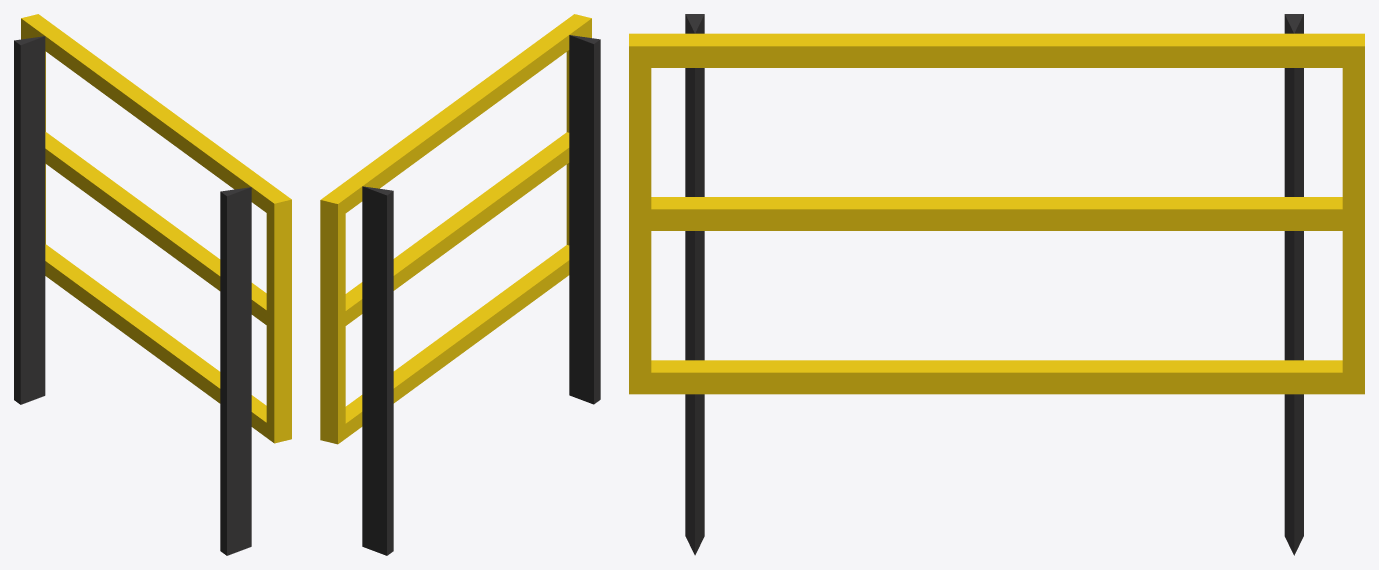
File: Barrier_3.fbx
3 renders of one model, left to right at view 1: azimuth 30°, elevation 25°; view 2: azimuth 150°, elevation 25°; view 3: azimuth 270°, elevation 25°, orthographic. The views are drawn at different scales.
Parts seen in each view (by area): view 1: Barrier_3; view 2: Barrier_3; view 3: Barrier_3.
Part boxes in pixels (left/top/right/bottom): Barrier_3: left=14, top=14, right=291, bottom=555; Barrier_3: left=320, top=14, right=600, bottom=555; Barrier_3: left=629, top=14, right=1364, bottom=555.
Bounding box in the file's own units: 15.86 × 120 × 153.
